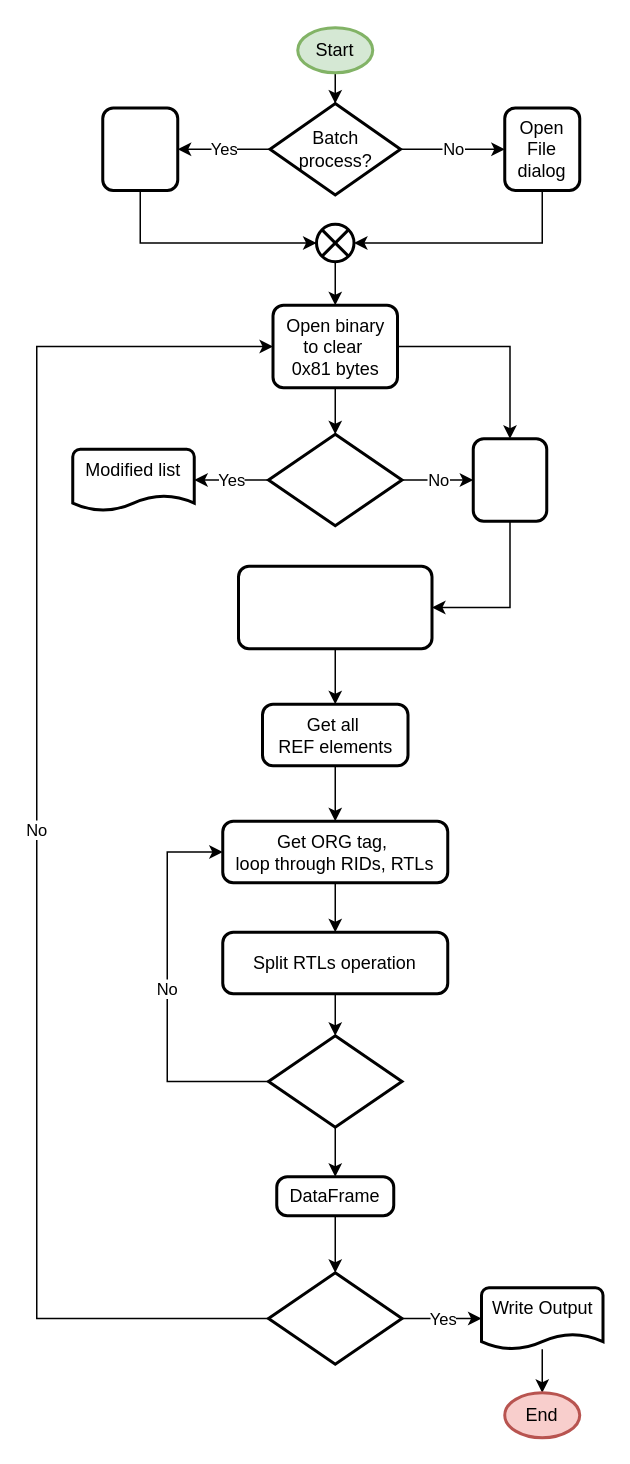
This 630x1464 diagram has some shape labels left out. The shapes that lost their labels are listed below. From the top down, each one's box as (x1, y1, x2, y2) in pixels, then its label:
(100, 106, 178, 191): Open folder dialog
(266, 432, 403, 526): Replaced 0x81?
(471, 436, 548, 522): Parse to Soup
(236, 564, 433, 650): Load section meta to dictionary (SCN, STL, DTE)
(266, 1034, 403, 1128): Is last REF?
(266, 1270, 403, 1365): Last file?
